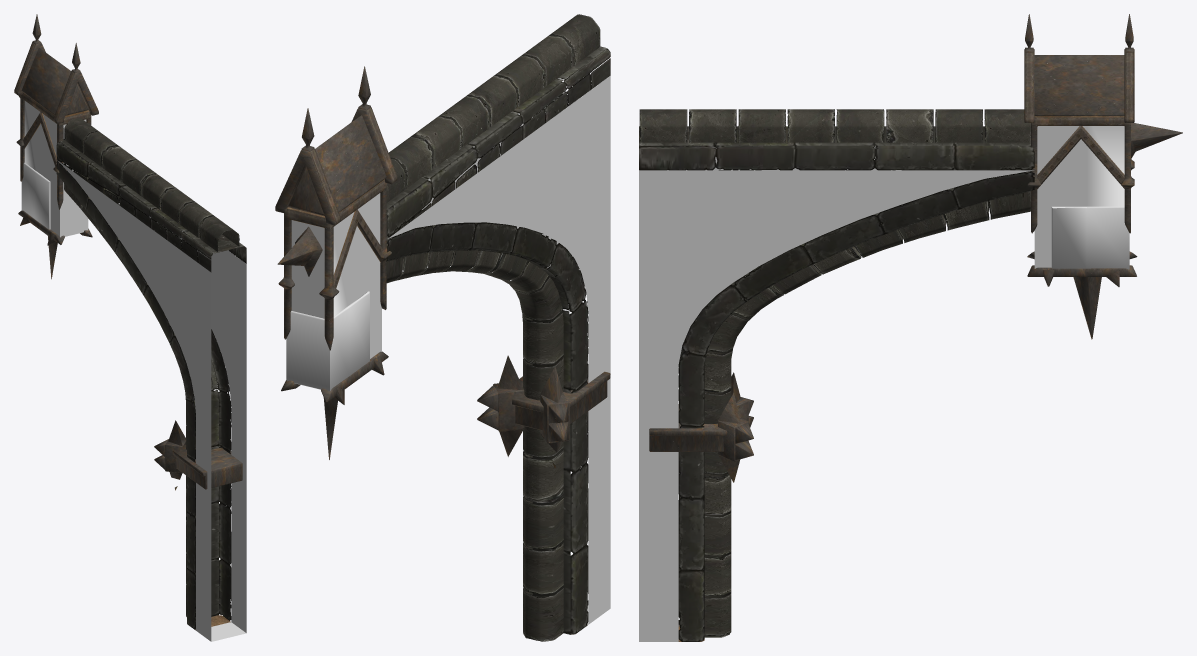
3 renders of one model, left to right at view 1: azimuth 30°, elevation 25°; view 2: azimuth 150°, elevation 25°; view 3: azimuth 270°, elevation 25°, orthographic. The views are drawn at different scales.
Parts seen in each view (by area): view 1: SM_DR_Nexus_Arch_Detail_01_LOD0; view 2: SM_DR_Nexus_Arch_Detail_01_LOD0; view 3: SM_DR_Nexus_Arch_Detail_01_LOD0.
Boxes of the visible parts, x1,y1,x2,y2 form: SM_DR_Nexus_Arch_Detail_01_LOD0: (14,14,246,641); SM_DR_Nexus_Arch_Detail_01_LOD0: (275,14,610,641); SM_DR_Nexus_Arch_Detail_01_LOD0: (639,14,1182,641).
Bounding box in the file's own units: 1.7 × 13.08 × 10.45.
4 materials, 3 textured.
